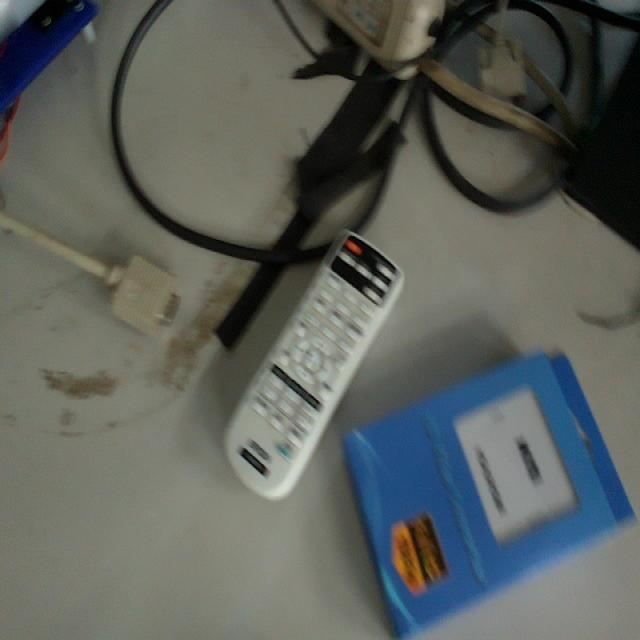remote: (341, 354, 633, 640), (232, 235, 399, 500)
